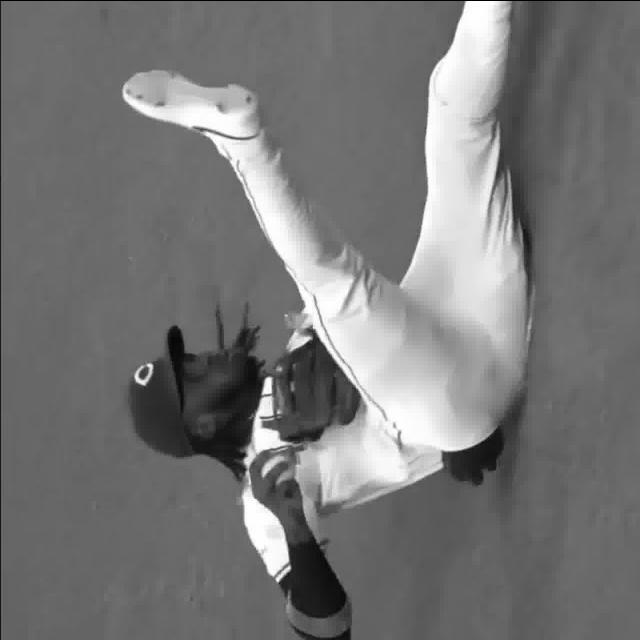baseball: (262, 453, 291, 484)
baseball_glove: (263, 339, 359, 444)
shoe: (122, 63, 274, 139)
